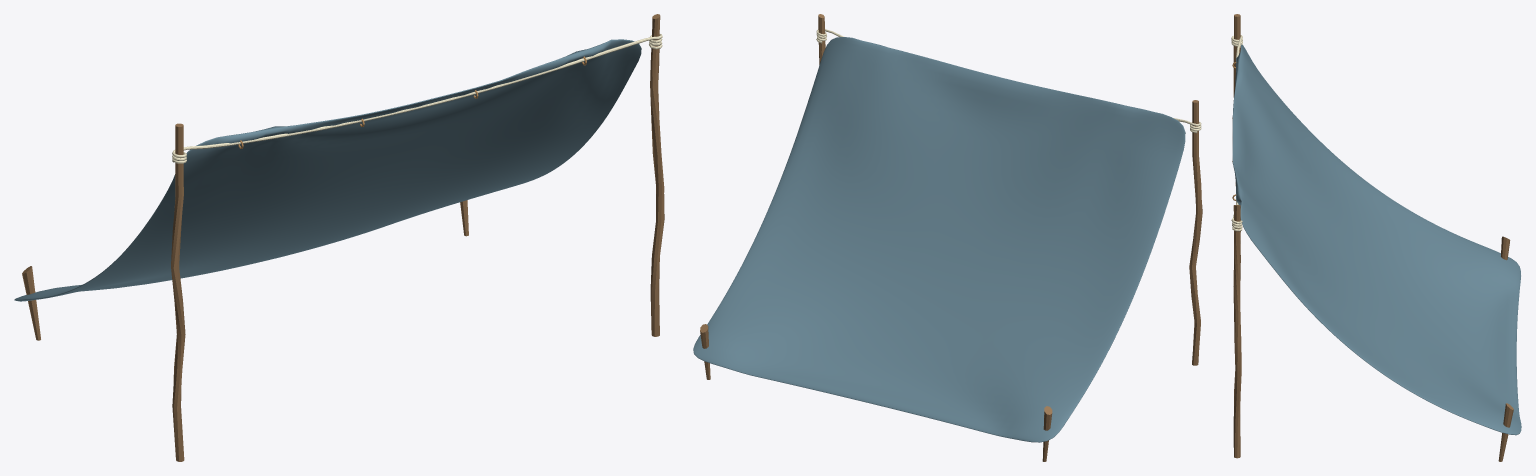
The model's file is atoll_Tent.fbx.
The picture shows the model from 3 angles, left to right: view 1: azimuth 30°, elevation 25°; view 2: azimuth 150°, elevation 25°; view 3: azimuth 270°, elevation 25°; orthographic projection. The views are drawn at different scales.
Visible parts, largest first — view 1: ClothTent, Pole1, Pole2, Rope; view 2: ClothTent, Pole1; view 3: ClothTent, Pole2, Stake2, Pole1.
Part boxes in pixels (x1,y1,x2,y2): ClothTent: (14,39,641,301); Pole1: (171,123,185,461); Pole2: (650,14,664,336); Rope: (172,34,662,163); ClothTent: (693,37,1185,442); Pole1: (1189,100,1202,365); ClothTent: (1232,44,1521,435); Pole2: (1233,205,1241,458); Stake2: (1498,403,1513,461); Pole1: (1233,14,1240,280).
Size of the model in its own units: 378 by 251 by 244.
